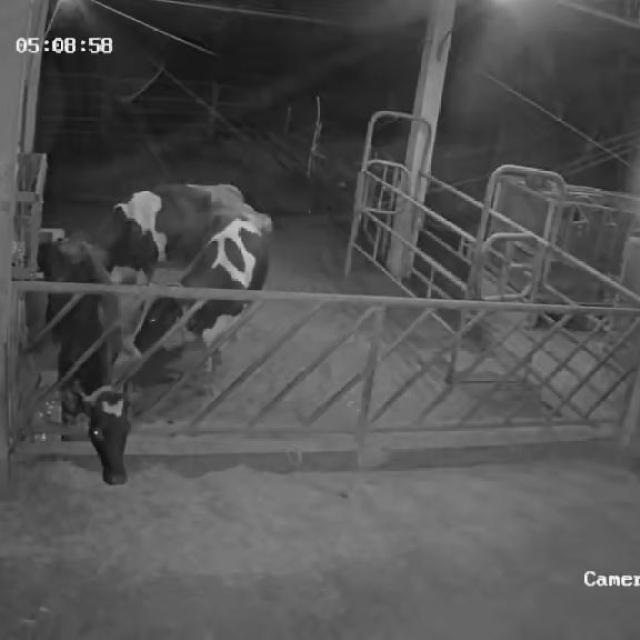feeding: (45, 238, 136, 492)
standing: (132, 207, 272, 403), (68, 179, 256, 279)
